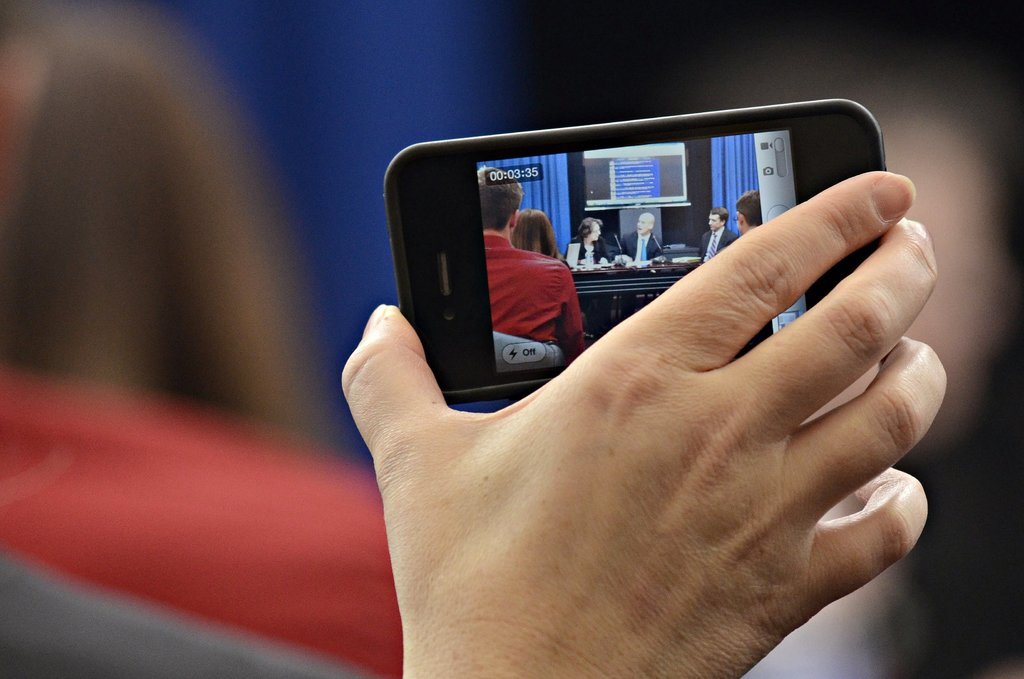Mobile-phone: (389, 97, 897, 408)
